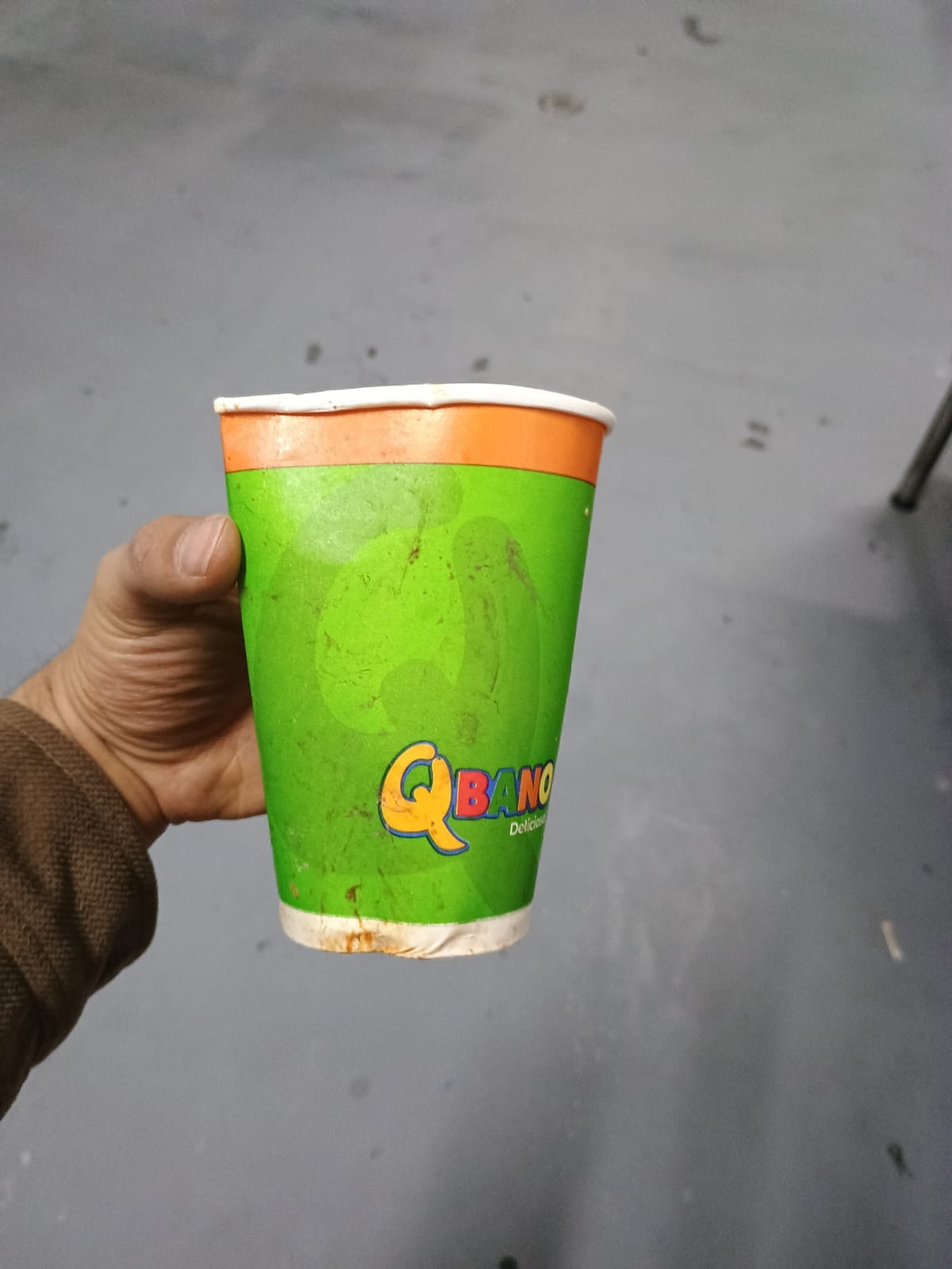Carton: (211, 381, 620, 961)
